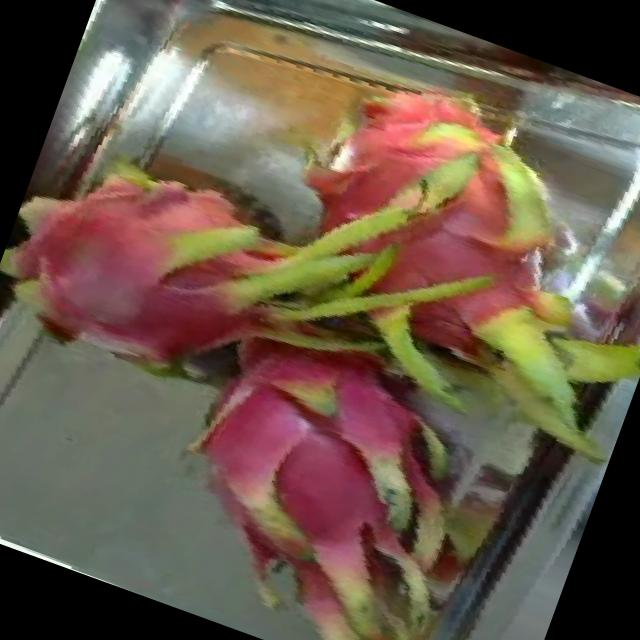Fruit: (96, 0, 212, 28)
